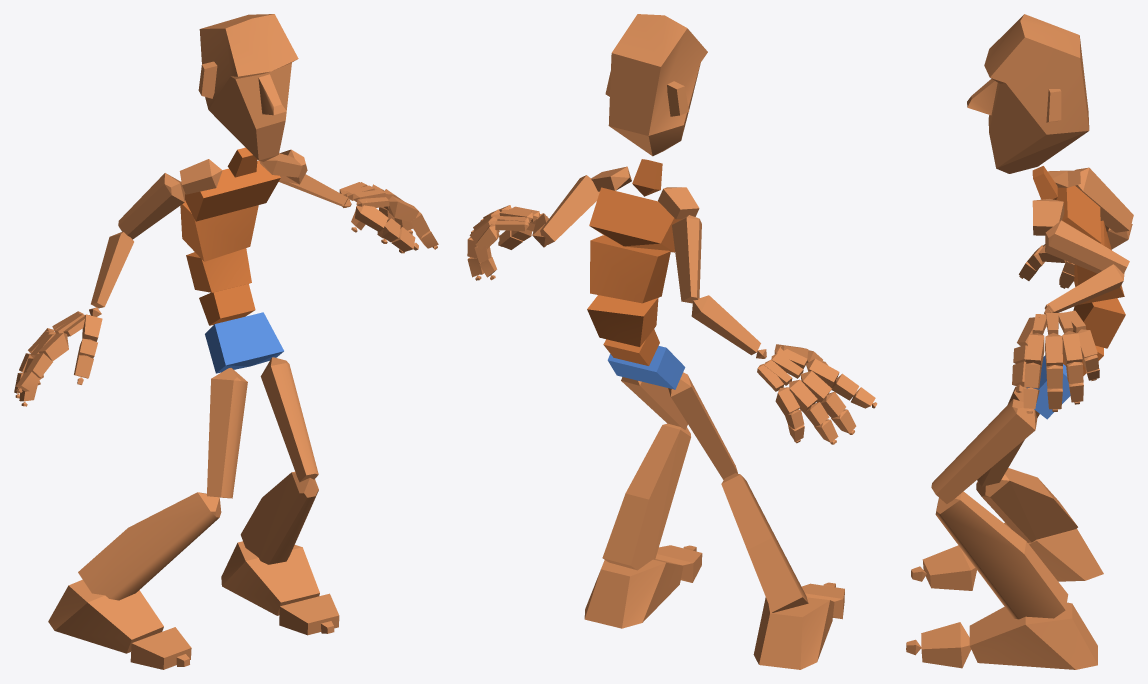
File: prueba39.obj
The picture shows the model from 3 angles, left to right: view 1: azimuth 30°, elevation 25°; view 2: azimuth 150°, elevation 25°; view 3: azimuth 270°, elevation 25°; orthographic projection. The views are drawn at different scales.
Parts seen in each view (by area): view 1: BOPED_Head, BOPED_R_leg, BOPED_R_foot, BOPED_R_foot01, BOPED_L_leg, BOPED_R_legup, BOPED_L_legup, Bone01, Bone04, Bone05, BOPED_R_arm_upper, Bone03 (+8 smaller); view 2: BOPED_Head, BOPED_L_leg, BOPED_R_foot01, BOPED_R_leg, BOPED_R_foot, Bone04, Bone05, Bone03, BOPED_R_legup, BOPED_R_arm_upper, Bone01, BOPED_L_arm_upper (+8 smaller); view 3: BOPED_Head, BOPED_L_leg, BOPED_R_foot01, BOPED_R_leg, BOPED_L_legup, BOPED_R_foot, BOPED_L_arm_upper, BOPED_R_foot_toe01, BOPED_R_foot_toe04, BOPED_R_arm_upper, Bone03, Bone05 (+14 smaller).
Boxes of the visible parts, x1=… form: BOPED_Head: x1=198, y1=14, x2=298, y2=161; BOPED_R_leg: x1=78, y1=492, x2=221, y2=600; BOPED_R_foot: x1=48, y1=579, x2=163, y2=653; BOPED_R_foot01: x1=221, y1=541, x2=319, y2=615; BOPED_L_leg: x1=240, y1=471, x2=318, y2=564; BOPED_R_legup: x1=207, y1=368, x2=247, y2=498; BOPED_L_legup: x1=260, y1=357, x2=318, y2=482; Bone01: x1=205, y1=312, x2=283, y2=373; Bone04: x1=180, y1=201, x2=258, y2=261; Bone05: x1=185, y1=160, x2=280, y2=221; BOPED_R_arm_upper: x1=118, y1=173, x2=185, y2=239; Bone03: x1=186, y1=248, x2=251, y2=292; BOPED_Head: x1=605, y1=14, x2=707, y2=156; BOPED_L_leg: x1=602, y1=423, x2=690, y2=570; BOPED_R_foot01: x1=584, y1=559, x2=683, y2=628; BOPED_R_leg: x1=721, y1=473, x2=808, y2=612; BOPED_R_foot: x1=753, y1=597, x2=834, y2=669; Bone04: x1=590, y1=235, x2=670, y2=303; Bone05: x1=589, y1=187, x2=681, y2=252; Bone03: x1=587, y1=295, x2=658, y2=346; BOPED_R_legup: x1=668, y1=372, x2=737, y2=479; BOPED_R_arm_upper: x1=672, y1=215, x2=701, y2=303; Bone01: x1=607, y1=346, x2=685, y2=389; BOPED_L_arm_upper: x1=540, y1=175, x2=599, y2=244; BOPED_Head: x1=967, y1=14, x2=1089, y2=173; BOPED_L_leg: x1=935, y1=491, x2=1068, y2=619; BOPED_R_foot01: x1=969, y1=602, x2=1097, y2=669; BOPED_R_leg: x1=976, y1=468, x2=1077, y2=542; BOPED_L_legup: x1=931, y1=399, x2=1037, y2=503; BOPED_R_foot: x1=1004, y1=522, x2=1103, y2=581; BOPED_L_arm_upper: x1=1045, y1=220, x2=1129, y2=273; BOPED_R_foot_toe01: x1=922, y1=545, x2=976, y2=590; BOPED_R_foot_toe04: x1=921, y1=622, x2=971, y2=668; BOPED_R_arm_upper: x1=1074, y1=167, x2=1133, y2=232; Bone03: x1=1073, y1=298, x2=1125, y2=348; Bone05: x1=1056, y1=185, x2=1101, y2=263.
Bounding box in the file's own units: 130 × 176 × 58.53.
